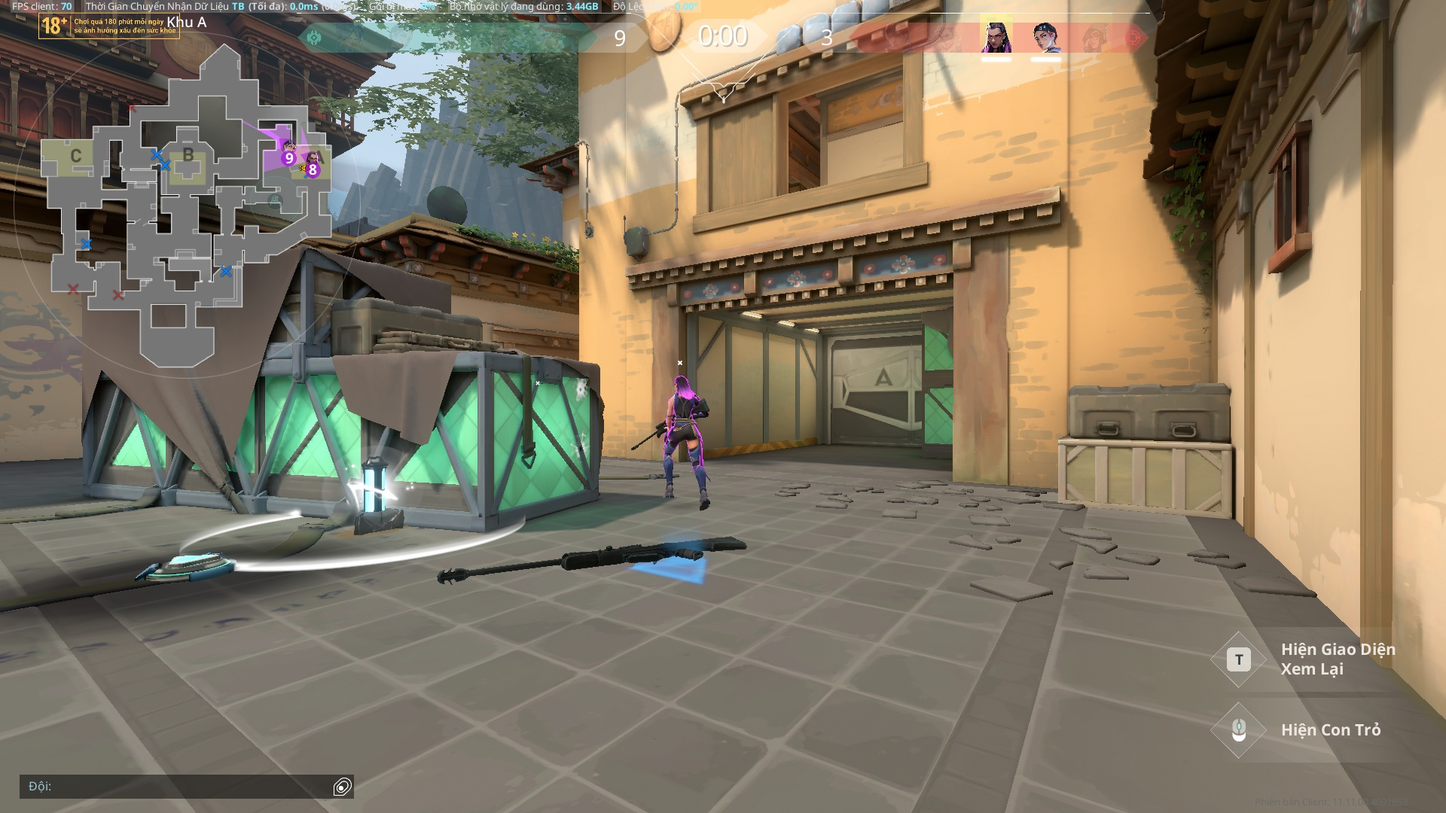body: (666, 389, 700, 419)
head: (672, 375, 689, 391)
